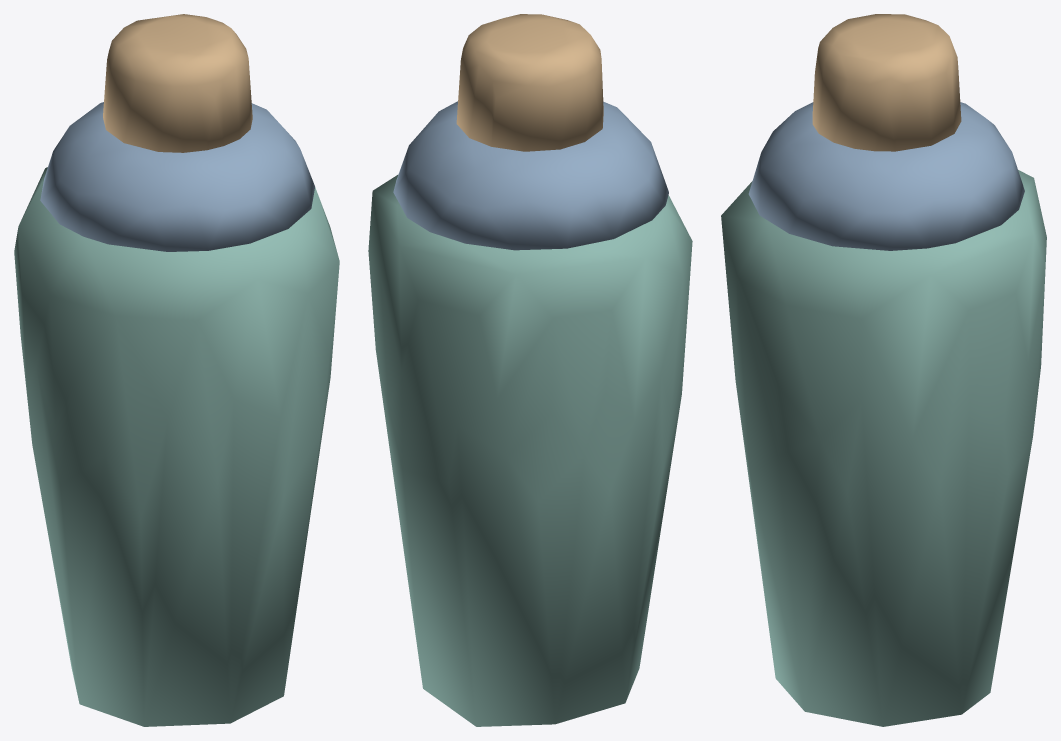
3 views of the same model, side by side, from view 1: azimuth 30°, elevation 25°; view 2: azimuth 150°, elevation 25°; view 3: azimuth 270°, elevation 25° (orthographic).
Bounding box in the file's own units: 0.8675 × 1.94 × 0.8758.
